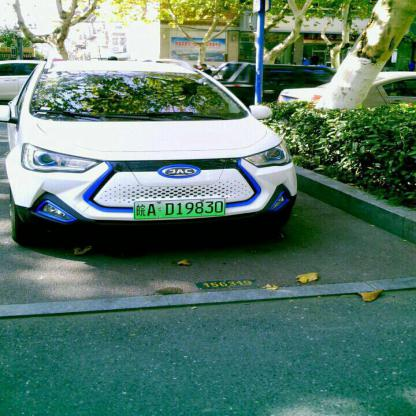lp: (134, 198, 226, 219)
